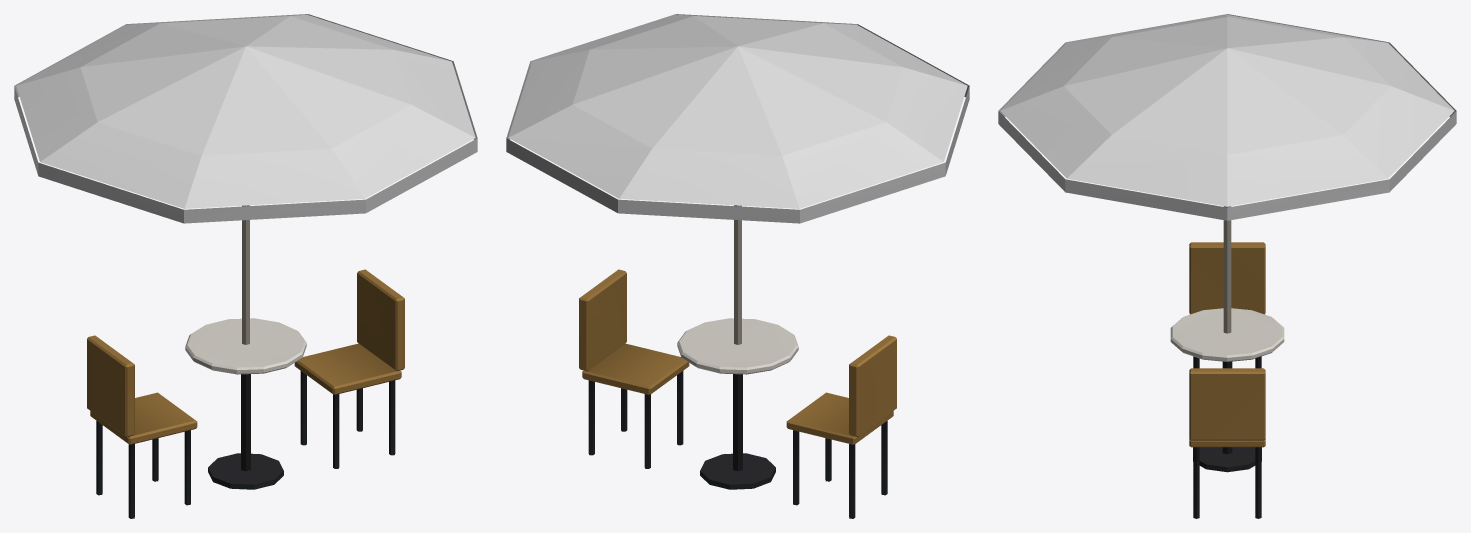
The model's file is pa_bistro-BVEWBU-c.glb.
3 views of the same model, side by side, from view 1: azimuth 30°, elevation 25°; view 2: azimuth 150°, elevation 25°; view 3: azimuth 270°, elevation 25° (orthographic). The views are drawn at different scales.
Size of the model in its own units: 2.52 by 2.48 by 2.52.
